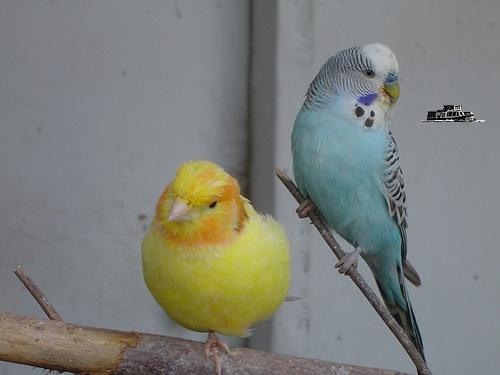tampered: (423, 106, 485, 122)
